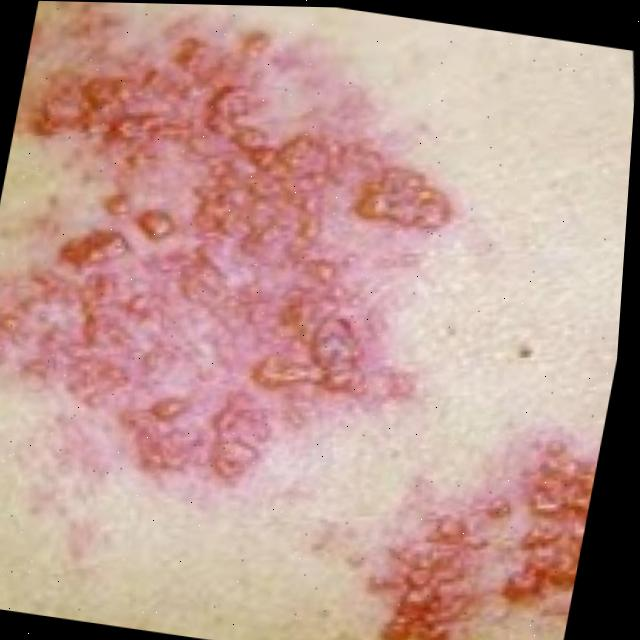Shingles: (0, 20, 473, 478), (386, 436, 599, 640)
